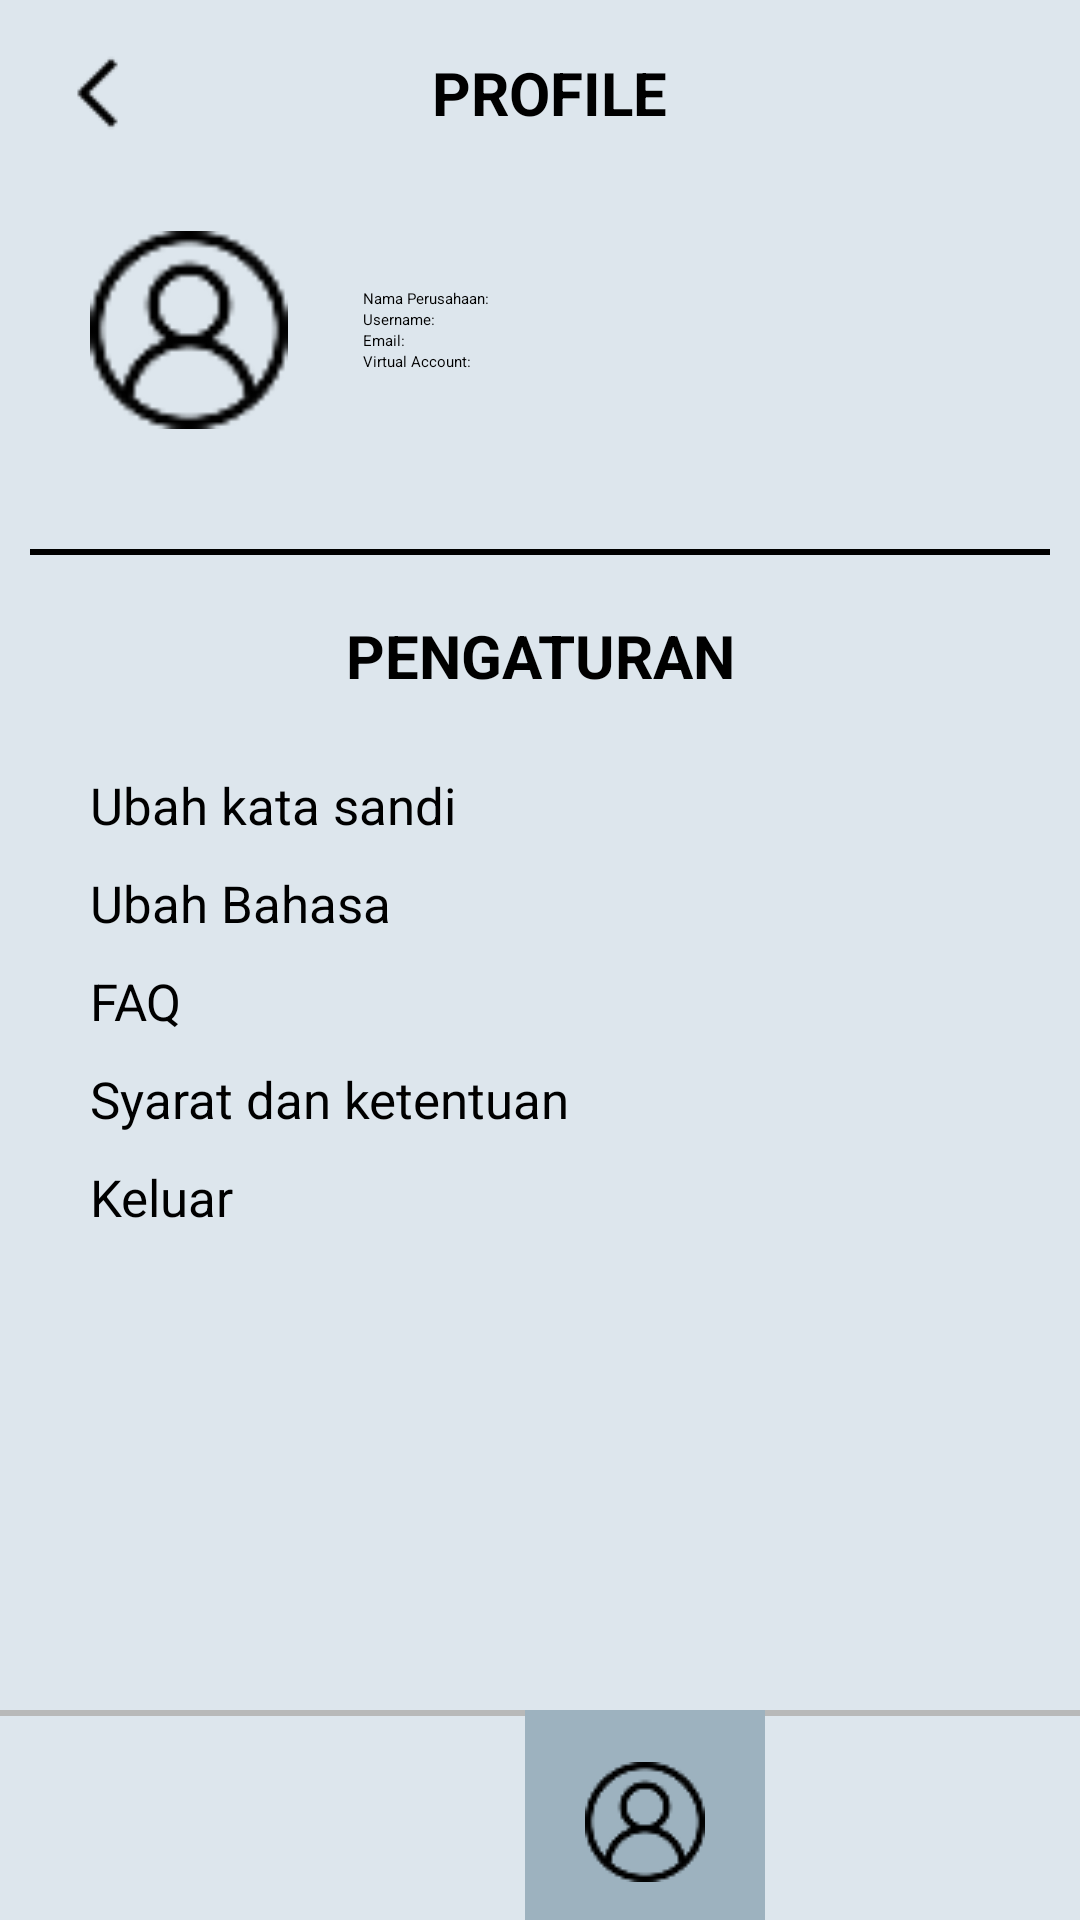

Icons on this 1080 × 1920 Android screen, each with its box as (x1, y1, x2, y2):
back hitam: (77, 59, 118, 127)
